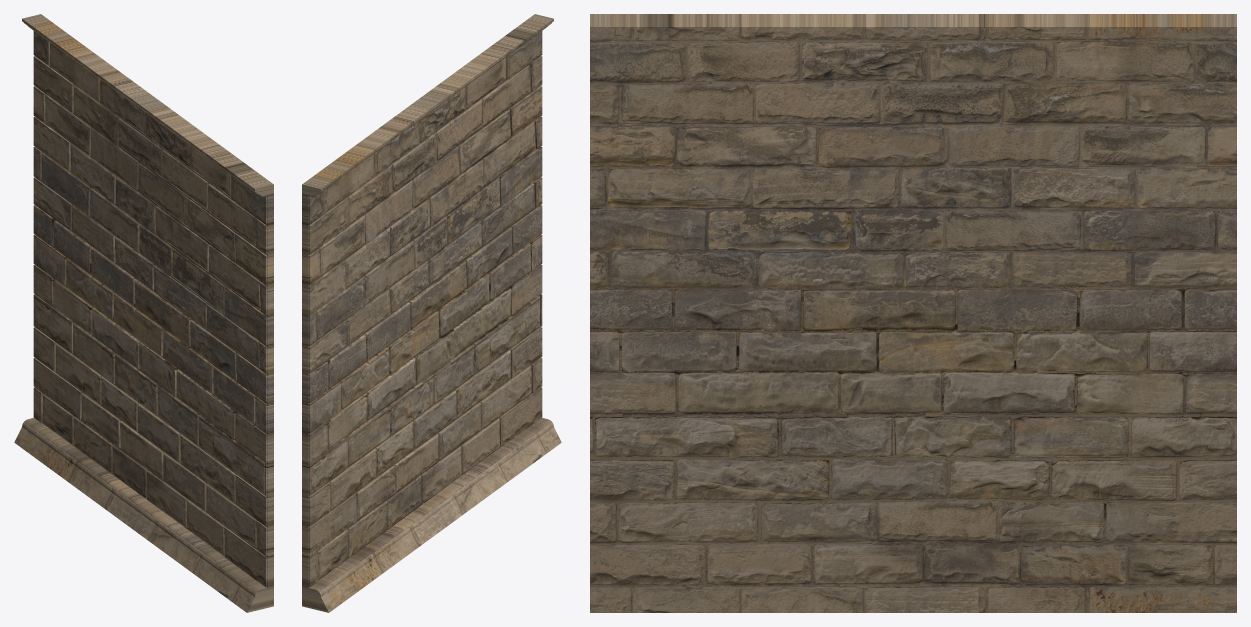
File: DungeonWall_01.glb
3 renders of one model, left to right at view 1: azimuth 30°, elevation 25°; view 2: azimuth 150°, elevation 25°; view 3: azimuth 270°, elevation 25°, orthographic. The views are drawn at different scales.
Parts seen in each view (by area): view 1: BrickMedievalBlocks; view 2: BrickMedievalBlocks; view 3: BrickMedievalBlocks.
Part boxes in pixels (x1,y1,x2,y2): BrickMedievalBlocks: (14,14,273,612); BrickMedievalBlocks: (302,14,561,612); BrickMedievalBlocks: (590,14,1236,612).
Bounding box in the file's own units: 0.0666 × 1 × 1.
1 material, 1 textured.
